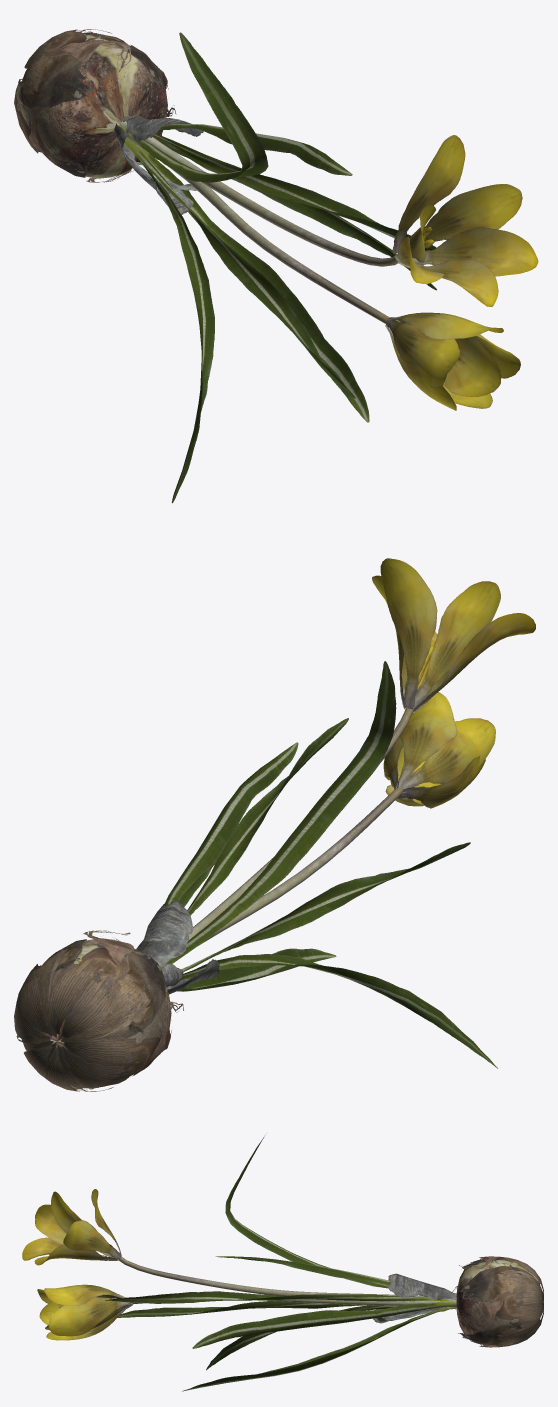
3 renders of one model, top to bottom at view 1: azimuth 30°, elevation 25°; view 2: azimuth 150°, elevation 25°; view 3: azimuth 270°, elevation 25°, orthographic. The views are drawn at different scales.
Parts seen in each view (by area): view 1: FL43Petal2, FL43Leaf7, FL43Roots1, FL43Leaf2, FL43Petal3, FL43Branch1, FL43Leaf5, FL43Leaf6, FL43Leaf3, FL43Leaf4; view 2: FL43Petal2, FL43Leaf7, FL43Leaf6, FL43Leaf5, FL43Leaf2, FL43Branch1, FL43Petal3, FL43Leaf4, FL43Roots1, FL43Leaf3; view 3: FL43Petal2, FL43Leaf7, FL43Leaf2, FL43Leaf6, FL43Leaf5, FL43Branch1, FL43Petal3, FL43Roots1, FL43Leaf4, FL43Leaf3.
Boxes of the visible parts, left/top/right/bottom form: FL43Petal2: left=385, top=135, right=522, bottom=410; FL43Leaf7: left=118, top=32, right=436, bottom=503; FL43Roots1: left=20, top=34, right=167, bottom=178; FL43Leaf2: left=125, top=120, right=436, bottom=422; FL43Petal3: left=394, top=227, right=538, bottom=306; FL43Branch1: left=120, top=121, right=398, bottom=323; FL43Leaf5: left=19, top=32, right=165, bottom=177; FL43Leaf6: left=14, top=29, right=176, bottom=182; FL43Leaf3: left=114, top=123, right=196, bottom=214; FL43Leaf4: left=121, top=115, right=203, bottom=142; FL43Petal2: left=372, top=558, right=500, bottom=808; FL43Leaf7: left=160, top=661, right=497, bottom=1068; FL43Leaf6: left=14, top=930, right=183, bottom=1091; FL43Leaf5: left=23, top=939, right=165, bottom=1088; FL43Leaf2: left=164, top=742, right=336, bottom=991; FL43Branch1: left=171, top=707, right=413, bottom=963; FL43Petal3: left=401, top=613, right=535, bottom=712; FL43Leaf4: left=136, top=900, right=192, bottom=966; FL43Roots1: left=31, top=939, right=171, bottom=1085; FL43Leaf3: left=161, top=959, right=219, bottom=994; FL43Petal2: left=37, top=1189, right=132, bottom=1340; FL43Leaf7: left=105, top=1136, right=456, bottom=1370; FL43Leaf2: left=182, top=1256, right=456, bottom=1391; FL43Leaf6: left=452, top=1256, right=543, bottom=1347; FL43Leaf5: left=460, top=1259, right=540, bottom=1345; FL43Branch1: left=119, top=1256, right=456, bottom=1307; FL43Petal3: left=22, top=1204, right=119, bottom=1265; FL43Roots1: left=456, top=1259, right=537, bottom=1334; FL43Leaf4: left=387, top=1273, right=456, bottom=1300; FL43Leaf3: left=373, top=1307, right=456, bottom=1323.
Size of the model in its own units: 0.0578 by 0.0958 by 0.1652.
Materials: 11 (11 with a texture image).
